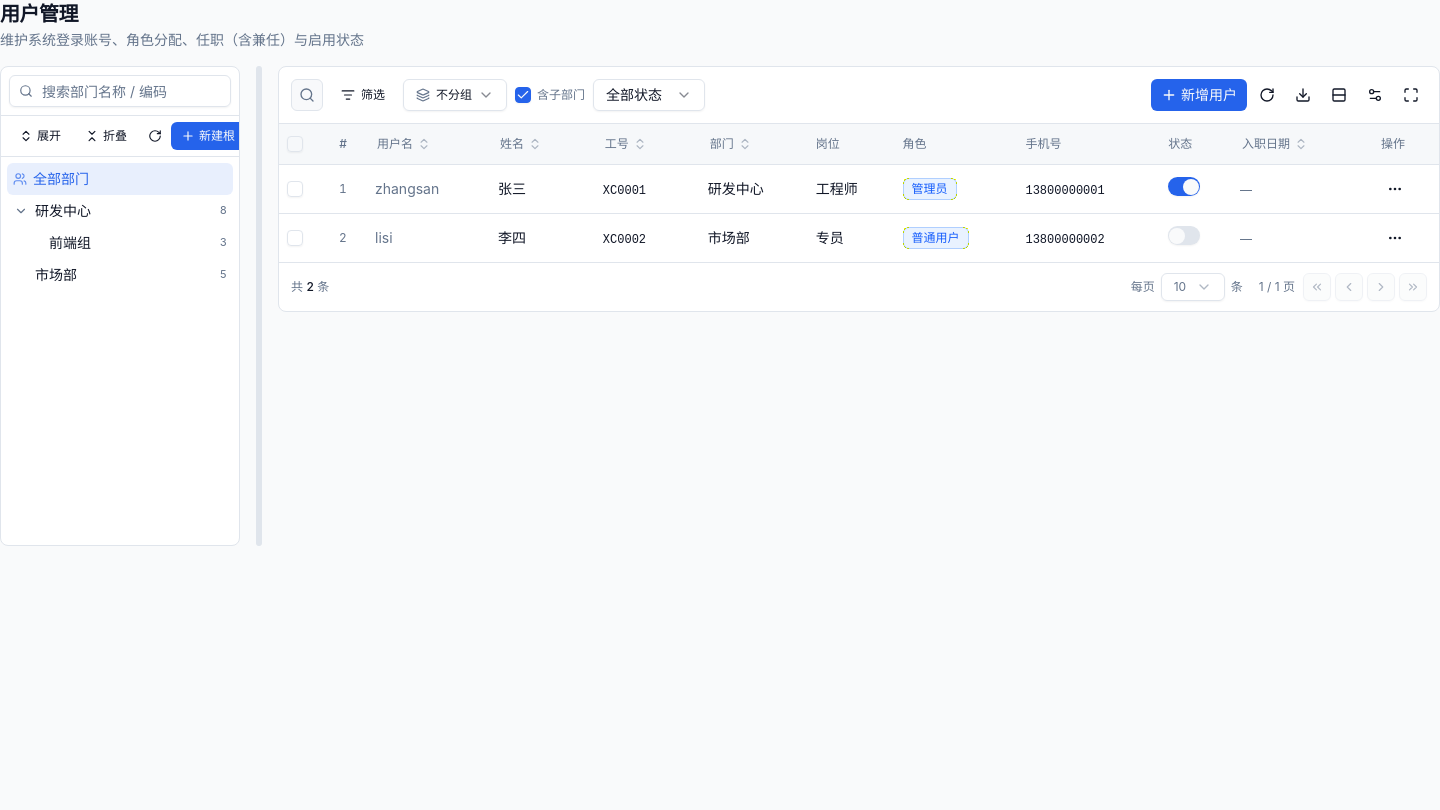
Scenario: 用户管理左树右表渲染冒烟 › 新增用户表单：直属上级（多选）+ 默认部门负责人语义提示
Expected: the text "张三" is shown, [498,180,526,196]
Click the button "新增用户". click: (1199, 95)
box: [1151,79,1247,111]
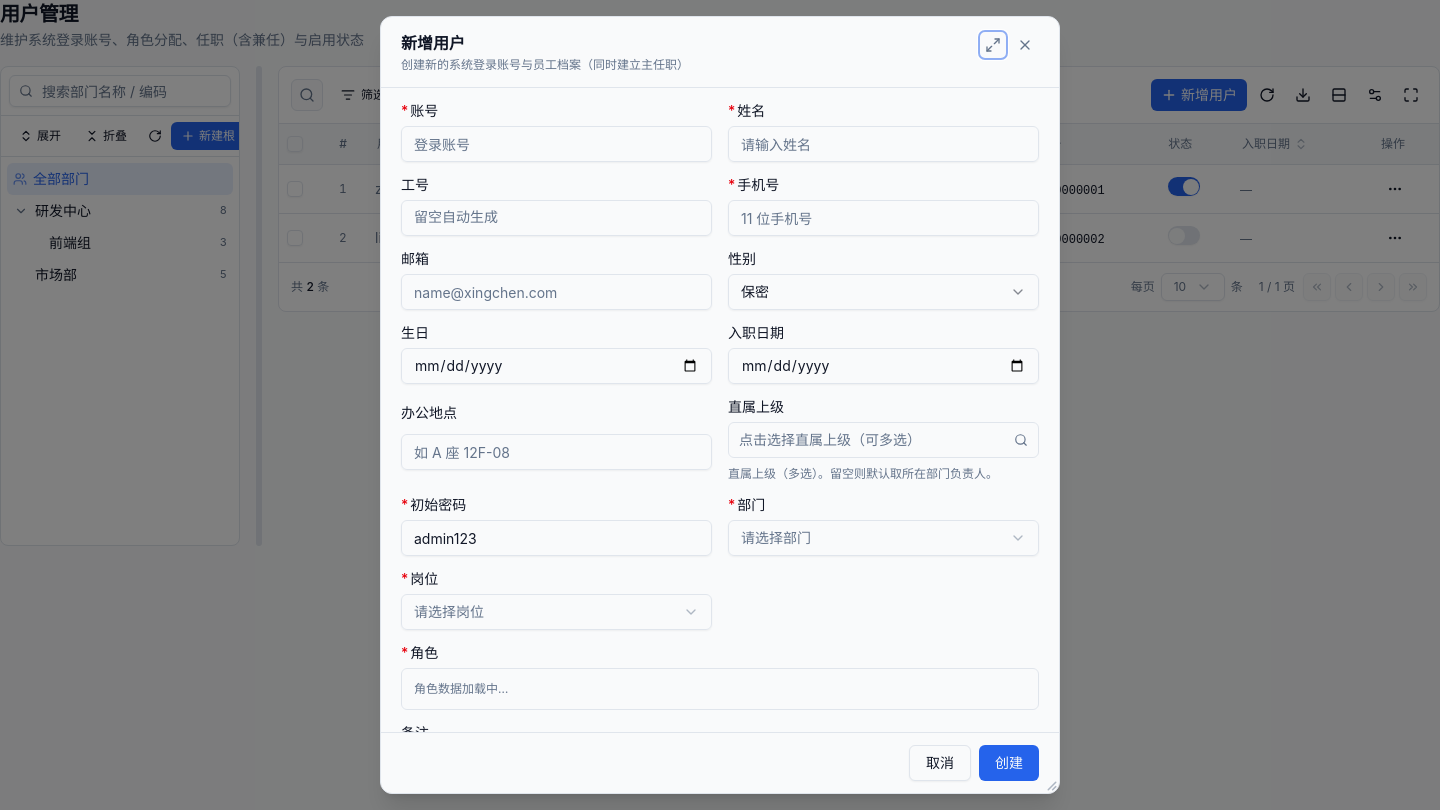
Now the text "直属上级（多选）。留空则默认取所在部门负责人。" is shown, box [728,466,1039,482]
Now the text "点击选择直属上级（可多选）" is shown, box [739,430,921,450]
